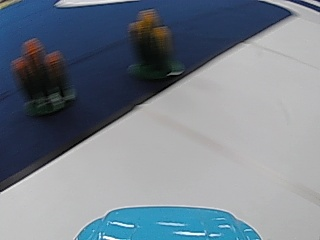corn: (12, 35, 73, 117), (129, 6, 179, 81)
